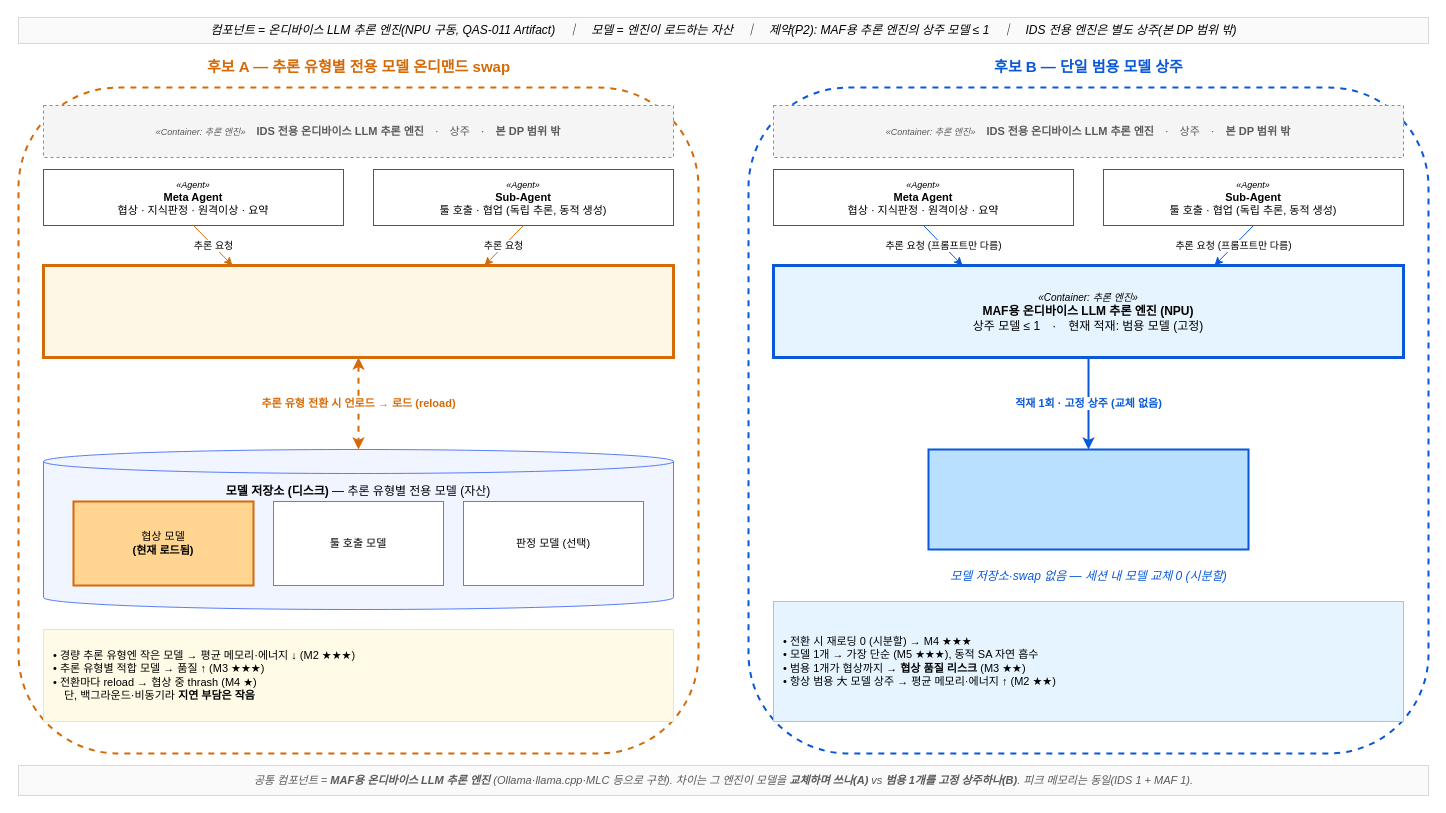
Image size: 1446x813. Some labels were removed from this diagram. The shapes that lost their labels are listed below. From the top down, each one's centre as x and y in pixels, then its label:
pixel 358 311: «Container: 추론 엔진» MAF용 온디바이스 LLM 추론 엔진 (NPU) 상주 모델 ≤ 1 · 현재 적재: 협상 모델
pixel 1088 499: 범용 모델 (상주 · 교체 없음) 협상·툴호출·판정 모두 처리
